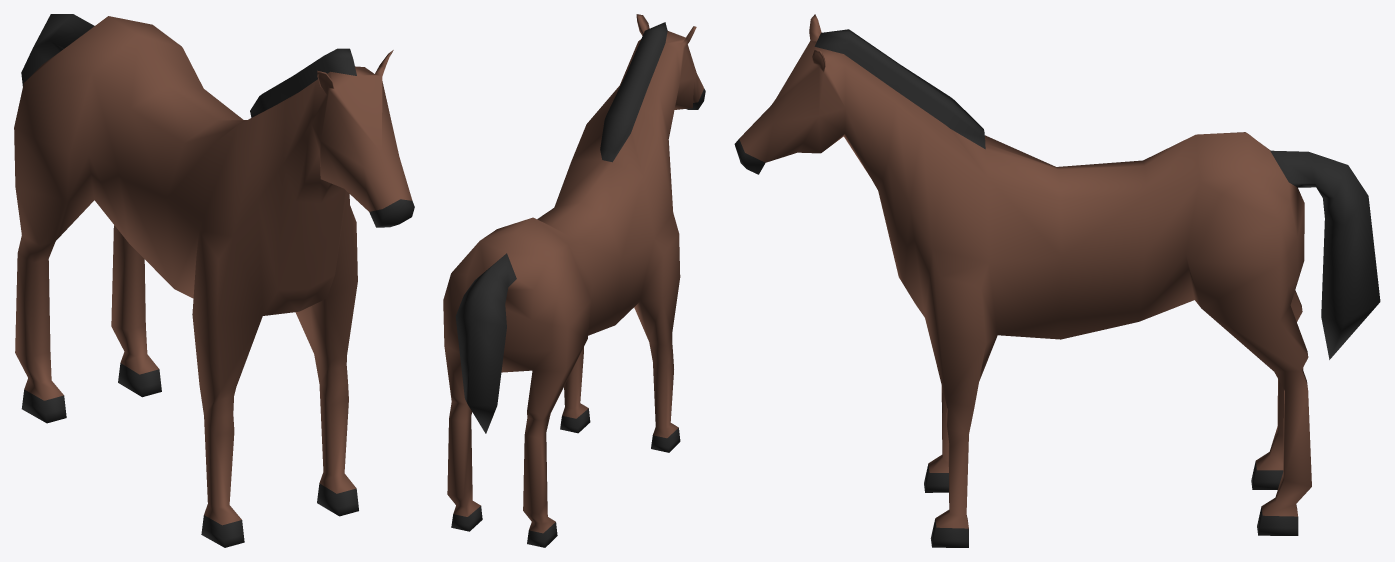
Rendered from horse.fbx.
3 views of the same model, side by side, from view 1: azimuth 30°, elevation 25°; view 2: azimuth 150°, elevation 25°; view 3: azimuth 270°, elevation 25° (orthographic). The views are drawn at different scales.
Parts seen in each view (by area): view 1: Horse.002; view 2: Horse.002; view 3: Horse.002.
Boxes of the visible parts, x1,y1,x2,y2 form: Horse.002: (14,14,414,547); Horse.002: (443,14,705,547); Horse.002: (734,14,1380,547).
Bounding box in the file's own units: 145 × 415 × 500.
